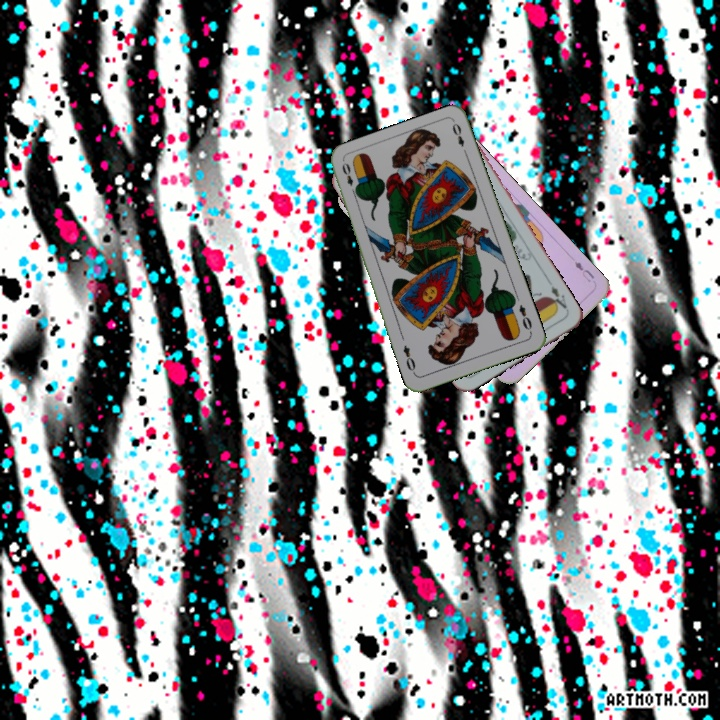EA: (546, 282, 571, 314)
EO: (338, 159, 359, 198), (515, 300, 535, 336)
EU: (570, 257, 597, 285)
